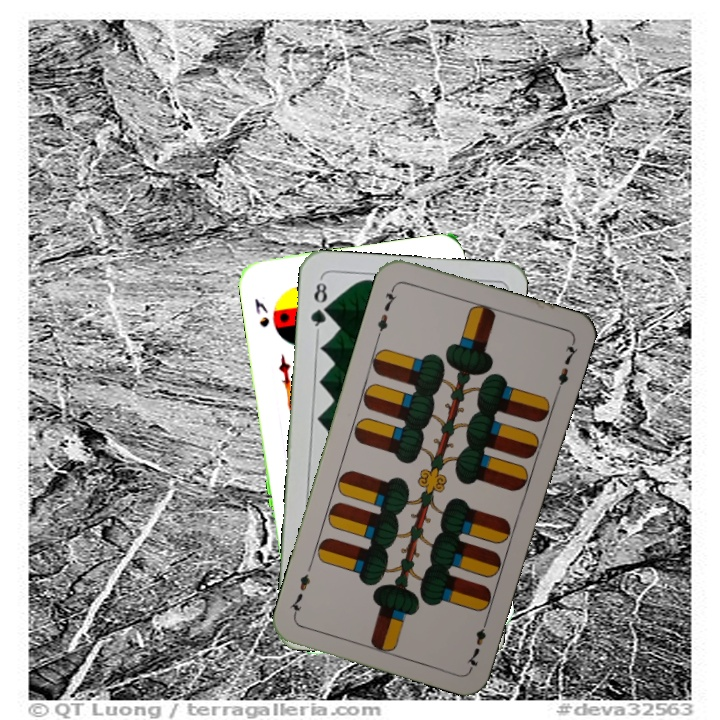E7: (462, 613, 491, 671), (373, 282, 399, 340)
G8: (306, 275, 331, 334)
SK: (250, 294, 272, 330)
